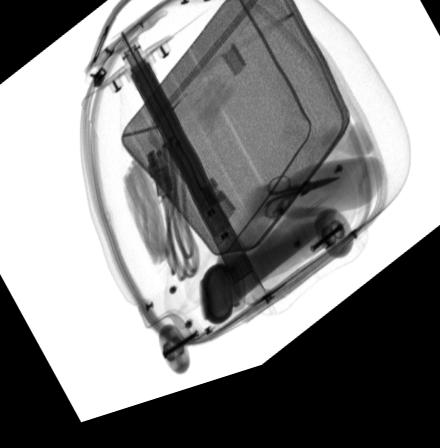Scissors: (263, 191, 340, 240)
